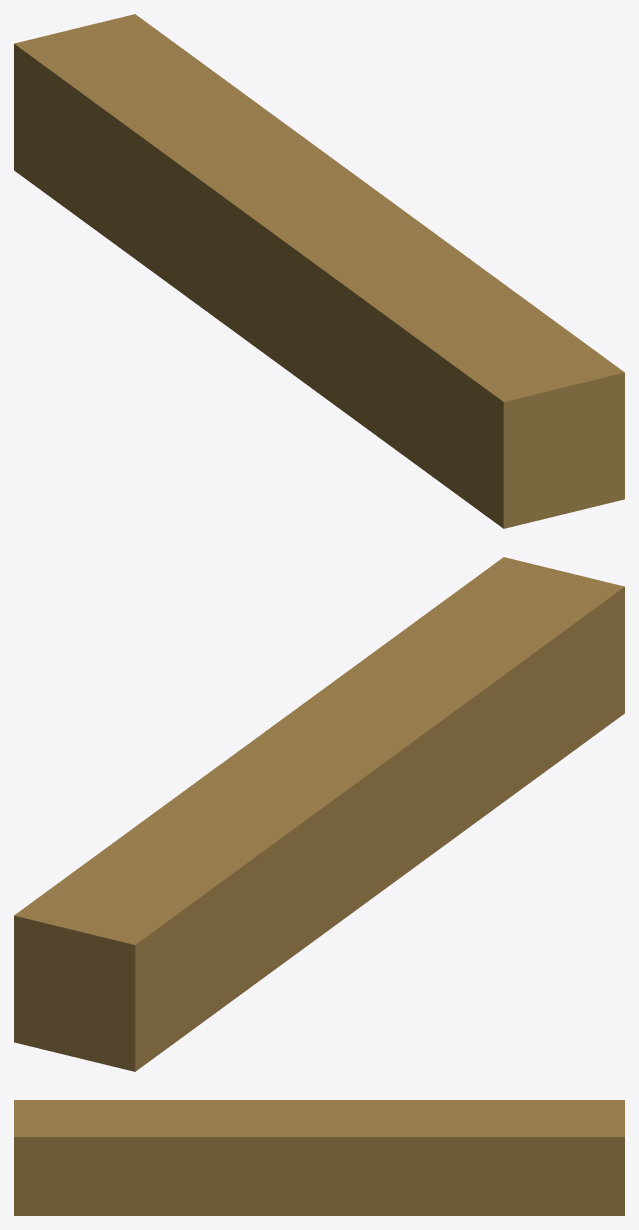
Rendered from Log.fbx.
3 renders of one model, top to bottom at view 1: azimuth 30°, elevation 25°; view 2: azimuth 150°, elevation 25°; view 3: azimuth 270°, elevation 25°, orthographic. The views are drawn at different scales.
Parts seen in each view (by area): view 1: Cylinder.001; view 2: Cylinder.001; view 3: Cylinder.001.
Boxes of the visible parts, x1=… form: Cylinder.001: x1=14, y1=14, x2=624, y2=528; Cylinder.001: x1=14, y1=557, x2=624, y2=1071; Cylinder.001: x1=14, y1=1100, x2=624, y2=1215.
Size of the model in its own units: 7.31 by 1.04 by 1.04.
